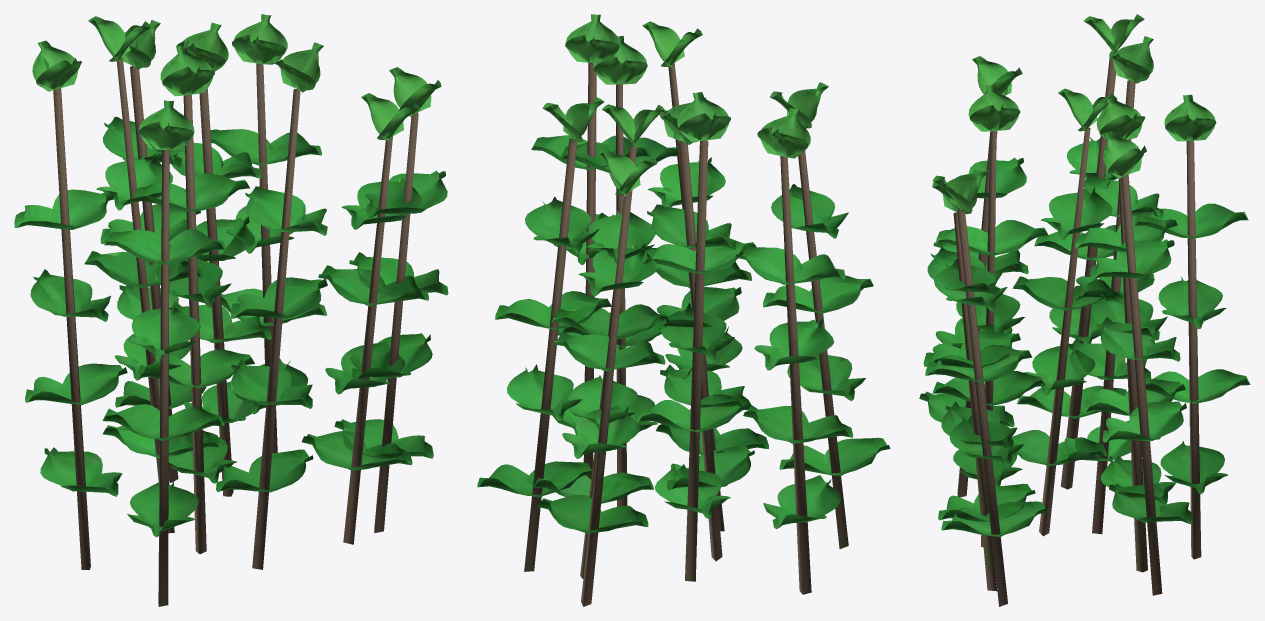
Rendered from crop_mint.glb.
3 views of the same model, side by side, from view 1: azimuth 30°, elevation 25°; view 2: azimuth 150°, elevation 25°; view 3: azimuth 270°, elevation 25° (orthographic). The views are drawn at different scales.
Visible parts, largest first — view 1: crop_mint, fruit; view 2: crop_mint, fruit; view 3: crop_mint, fruit.
Boxes of the visible parts, x1,y1,x2,y2 form: crop_mint: (14,58,448,606); fruit: (32,14,441,150); crop_mint: (477,62,890,606); fruit: (542,14,828,196); crop_mint: (919,57,1250,606); fruit: (932,14,1216,214).
Size of the model in its own units: 0.2082 by 0.2695 by 0.1707.
Materials: 1 (1 with a texture image).
